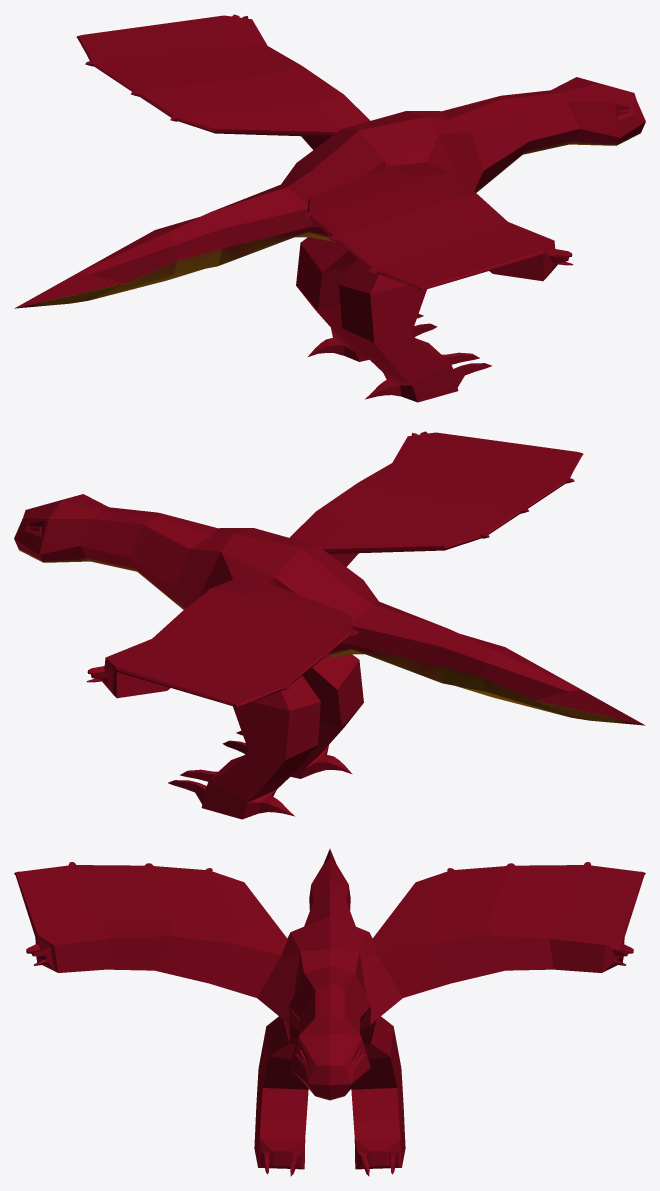
File: Wyvern.fbx
3 renders of one model, top to bottom at view 1: azimuth 30°, elevation 25°; view 2: azimuth 150°, elevation 25°; view 3: azimuth 270°, elevation 25°, orthographic. The views are drawn at different scales.
Visible parts, largest first — view 1: Cube; view 2: Cube; view 3: Cube.
Part boxes in pixels (x1,y1,x2,y2): Cube: [14, 14, 645, 402]; Cube: [14, 431, 645, 819]; Cube: [14, 849, 645, 1176].
Size of the model in its own units: 667 by 262 by 694.
Materials: 1 (1 with a texture image).
